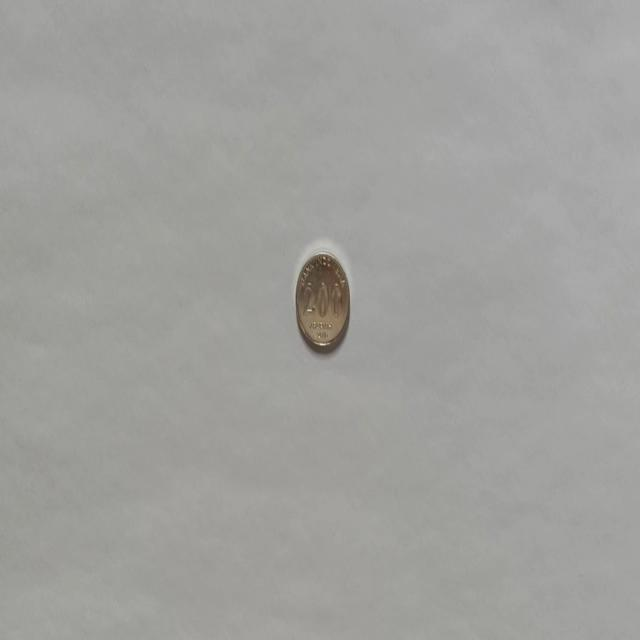dua ratus rupiah: (294, 249, 351, 352)
